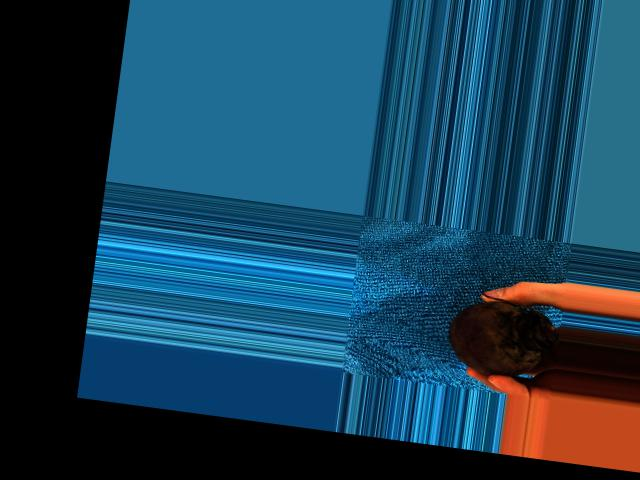beet: (444, 286, 562, 382)
